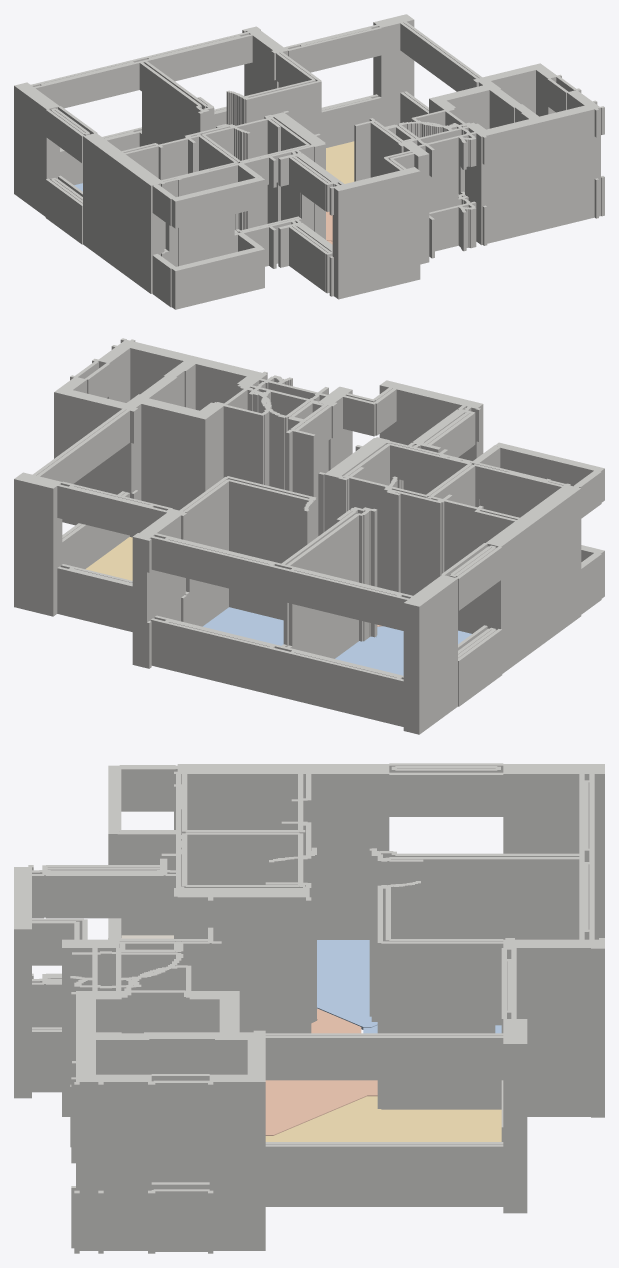
3 renders of one model, top to bottom at view 1: azimuth 30°, elevation 25°; view 2: azimuth 150°, elevation 25°; view 3: azimuth 270°, elevation 25°, orthographic. The views are drawn at different scales.
Parts seen in each view (by area): view 1: walls, room:living:9; view 2: walls, room:bedroom:0, room:bedroom:1, room:living:9; view 3: walls, room:living:9, room:kitchen:2, room:bedroom:0.
Part boxes in pixels (x1,y1,x2,y2): walls: (14, 14, 604, 309); room:living:9: (326, 141, 354, 183); walls: (14, 338, 604, 734); room:bedroom:0: (335, 626, 471, 675); room:bedroom:1: (203, 607, 283, 645); room:living:9: (85, 537, 132, 580); walls: (14, 763, 604, 1253); room:living:9: (265, 1096, 501, 1141); room:kitchen:2: (265, 1008, 377, 1135); room:bedroom:0: (317, 940, 377, 1029).
Bounding box in the file's own units: 11.42 × 2.8 × 8.87.
